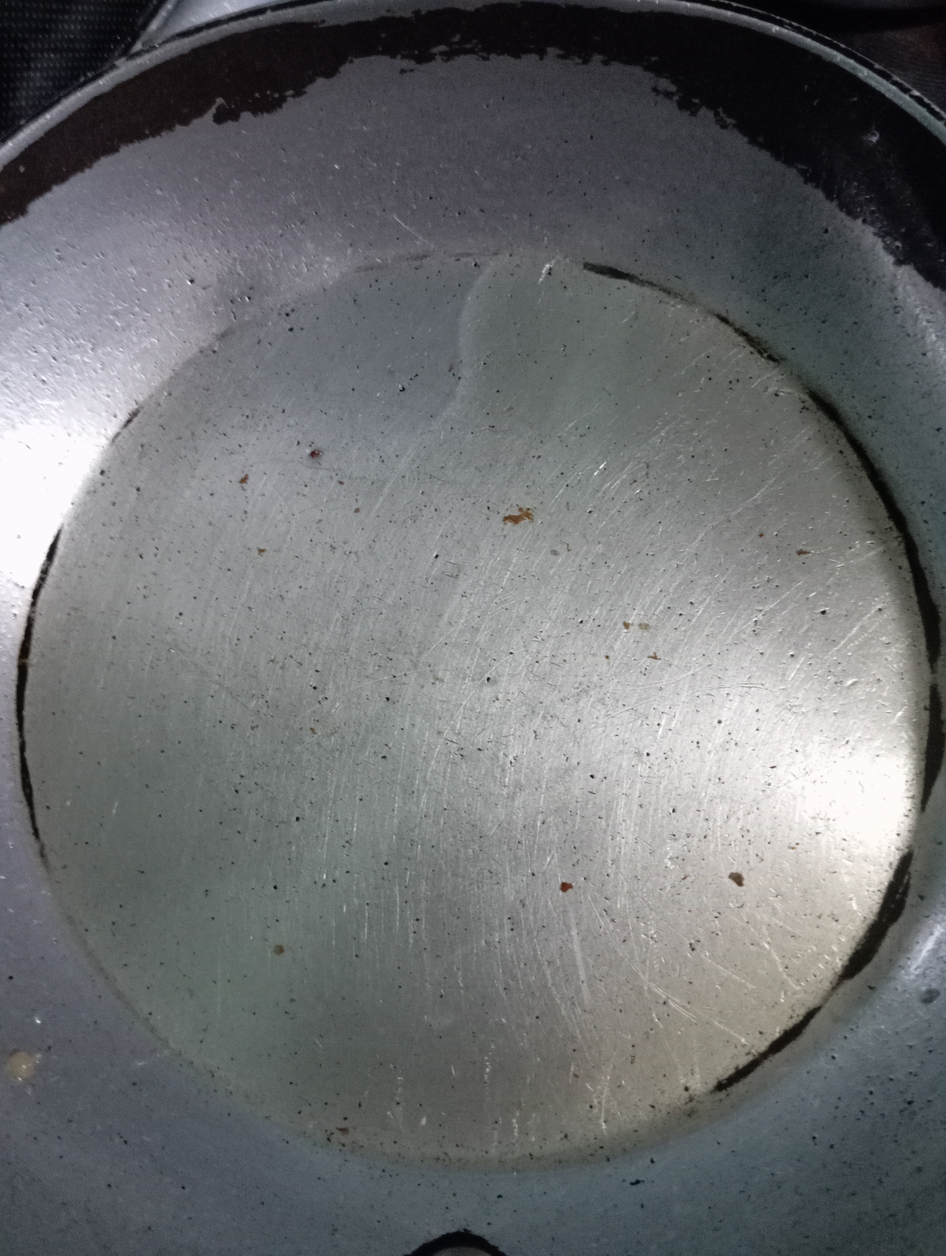reusable: (50, 253, 931, 1187)
